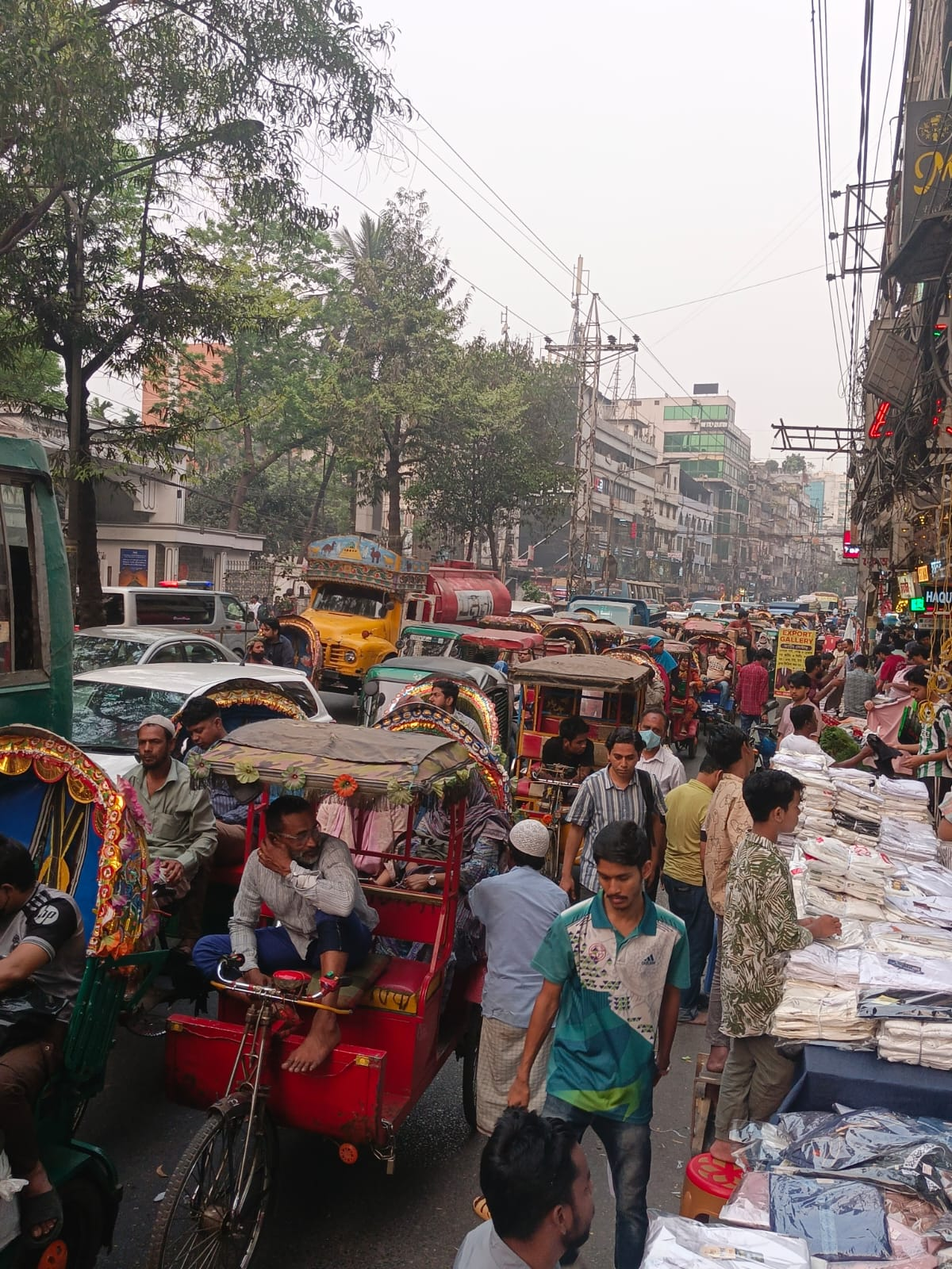Ambulance: (106, 566, 307, 642)
Bus: (0, 389, 104, 807), (591, 572, 670, 606)
Pickup: (560, 591, 676, 632)
Truck: (277, 535, 537, 691)
auto-ricksaw: (0, 706, 167, 1217), (450, 620, 662, 796), (692, 608, 749, 702)
private car: (77, 651, 330, 750), (74, 617, 258, 691), (686, 599, 745, 621)
